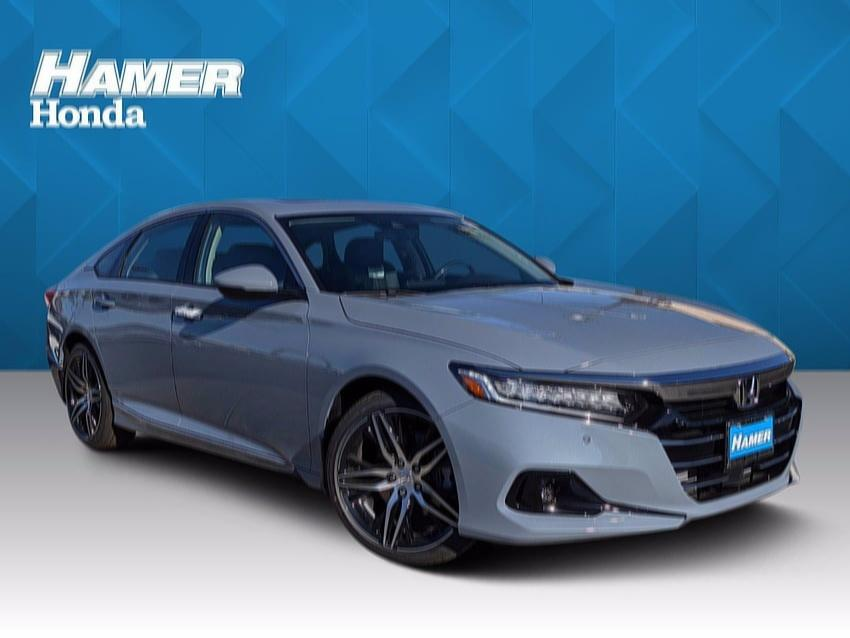Car hood: (333, 282, 798, 387)
Driver-s door - -F-R-: (165, 189, 322, 492)
Fender - -F-R-: (283, 288, 514, 474)
Fender - -R-R-: (45, 231, 109, 376)
Front bumper: (430, 382, 802, 546)
Headlight - -R-: (446, 357, 668, 432)
Passenger-s door - -R-R-: (80, 193, 214, 445)
Side bumper - -R-: (108, 383, 325, 498)
Side mirror - -R-: (211, 265, 307, 305)
